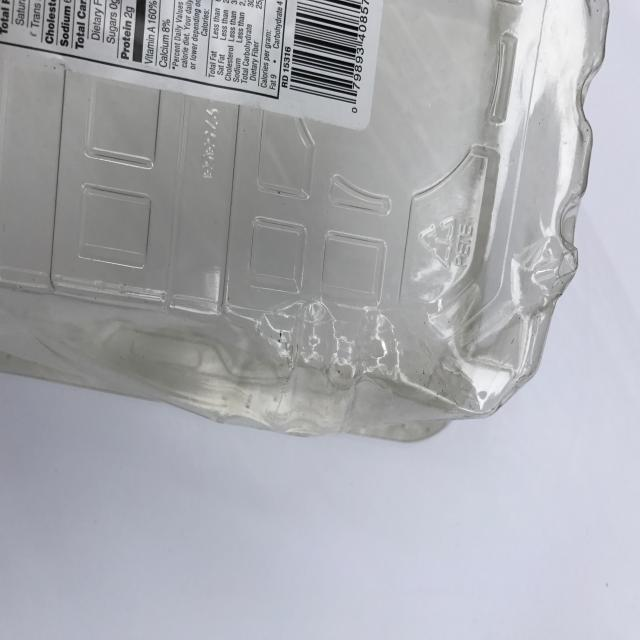plastic: (0, 1, 613, 441)
